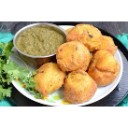bonda: (65, 70, 96, 103), (91, 48, 118, 84), (67, 23, 104, 49), (58, 42, 89, 71), (35, 63, 63, 93)
